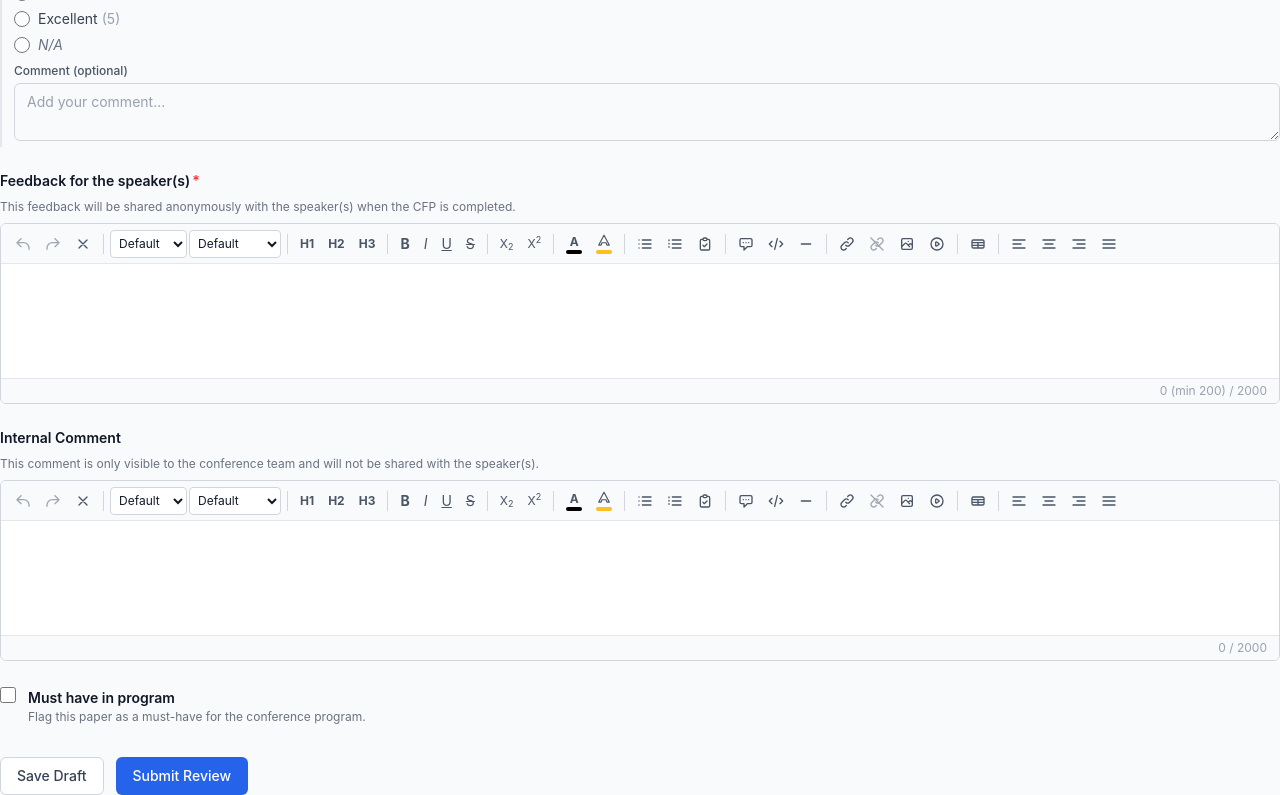
Test: ReviewForm › form submission › shows error message when save fails
(page scrolled)
Click the button "Save Draft": (52, 776) [0, 757, 104, 794]
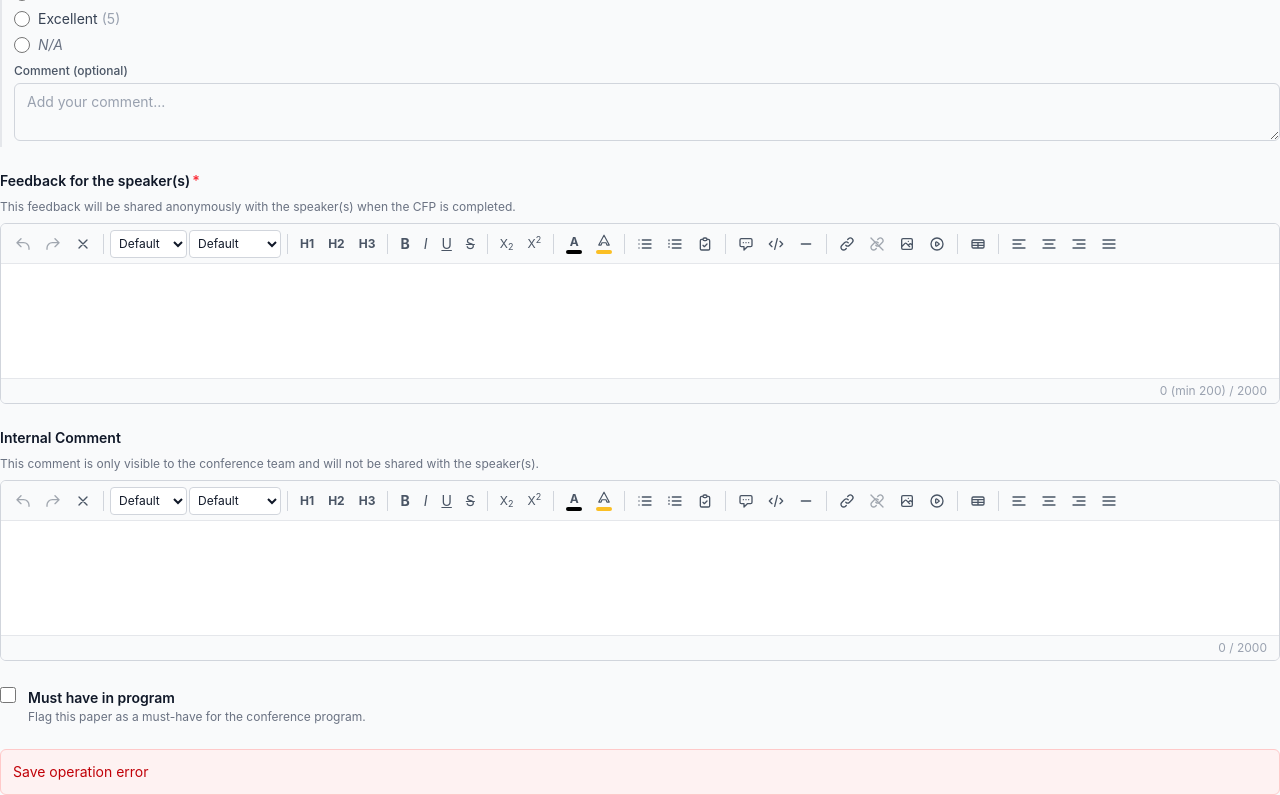
Now the text "Save operation error" is shown, box [13, 763, 148, 780]
